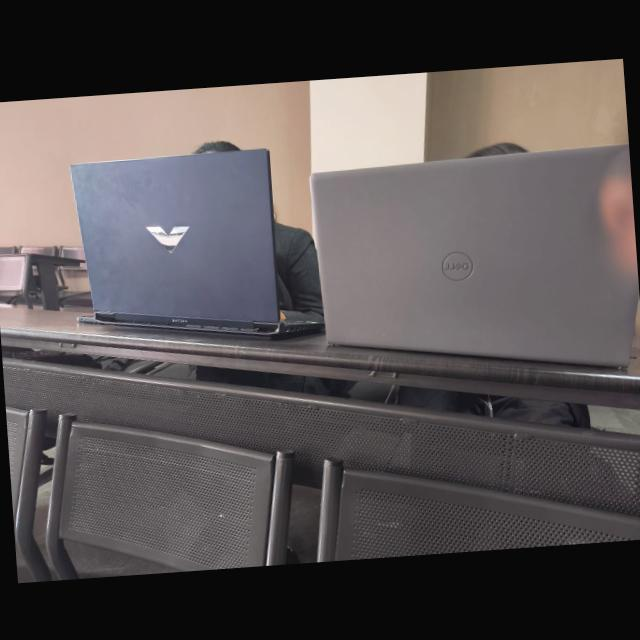laptop: (307, 139, 623, 376), (43, 142, 310, 352)
